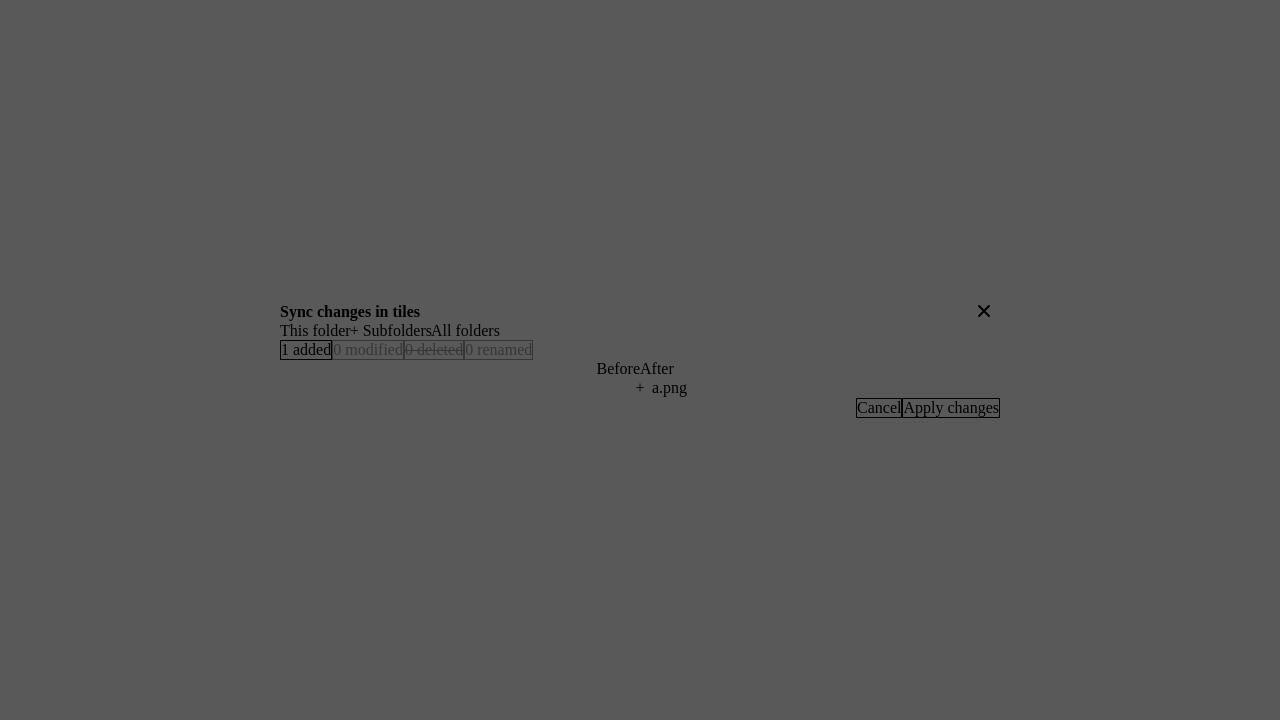
Scenario: SyncModal › shows an error and stays open when applying fails
Expected: the button "1 added" is shown, x1=280 y1=340 x2=332 y2=360
Step 1. Click the button "Apply changes" → (951, 408), box x1=902 y1=398 x2=1000 y2=418
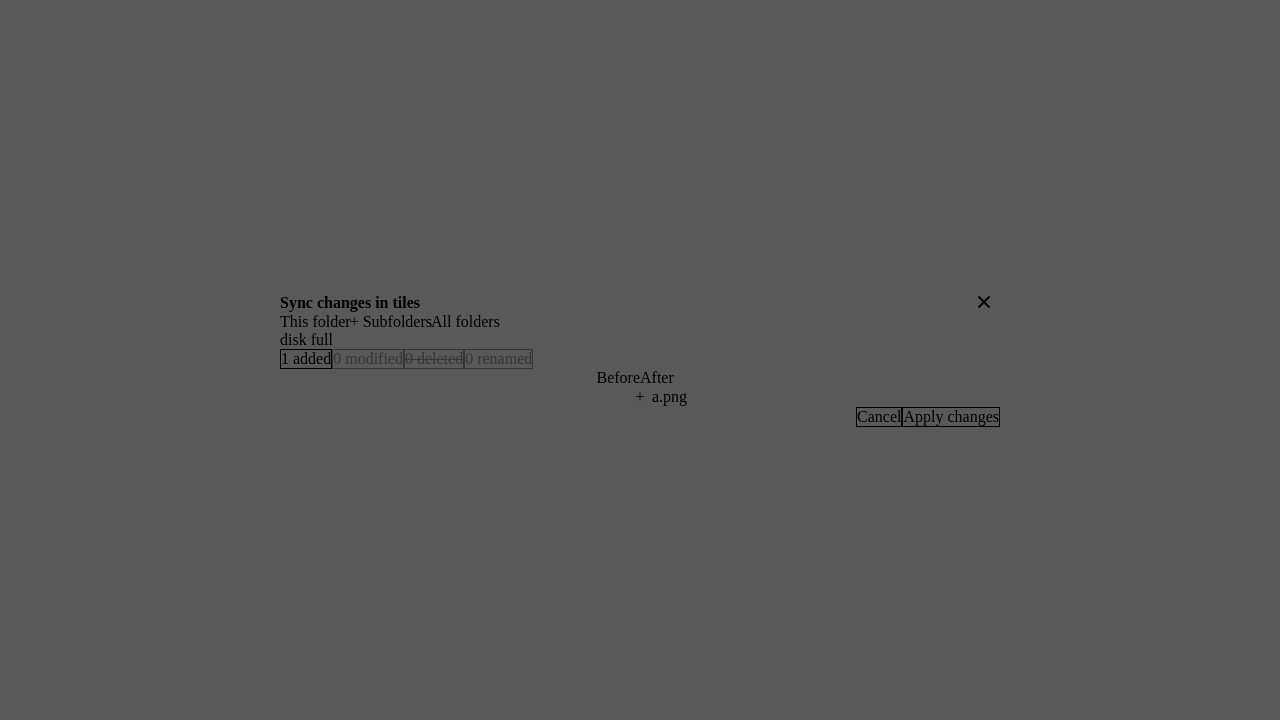
Expected: the text "disk full" is shown, x1=280 y1=331 x2=333 y2=348
